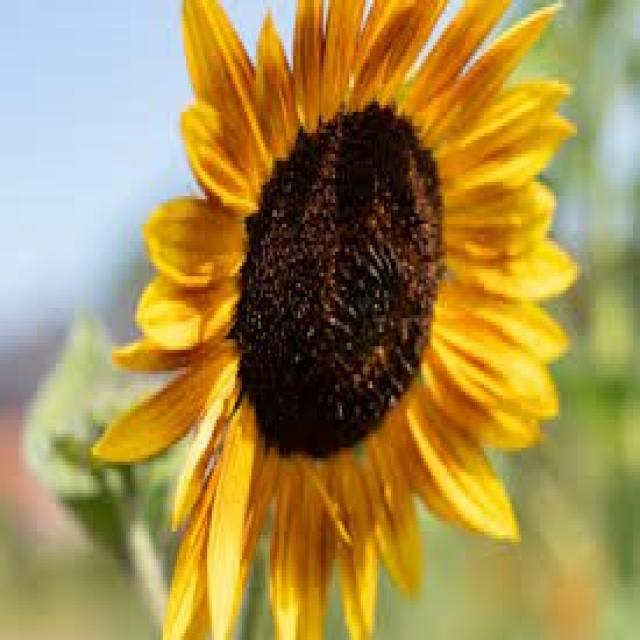sunflower: (88, 0, 580, 637)
